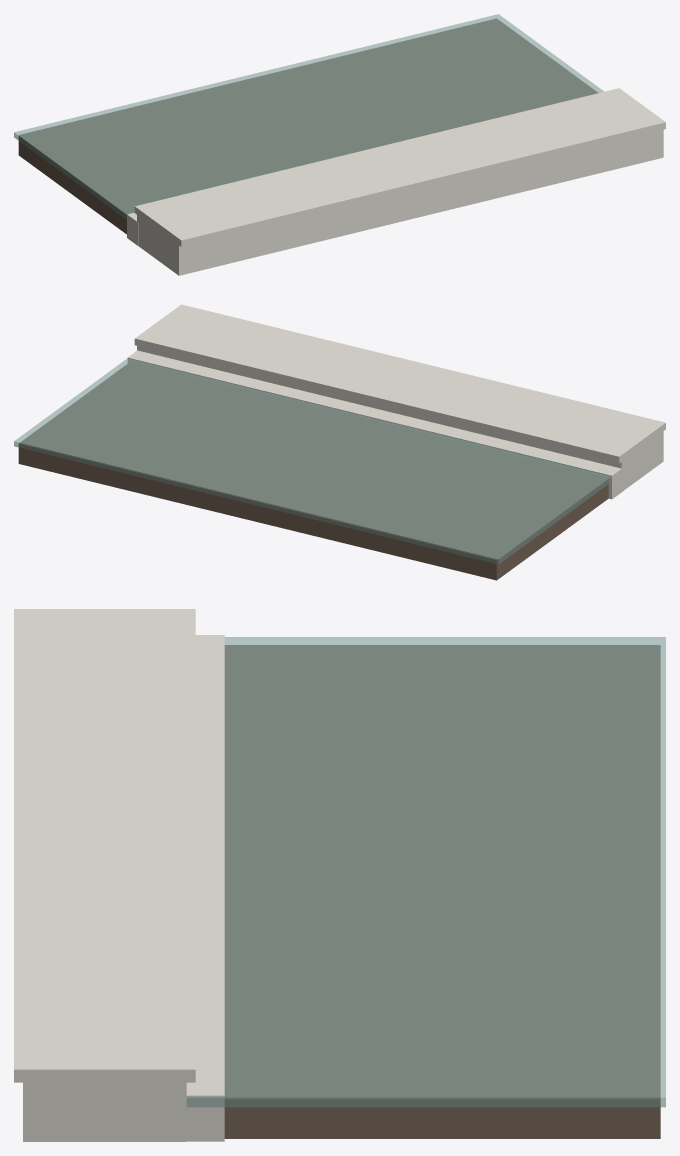
Rendered from botanical-glasshouse-and-palm-house-botanical-glasshou-1b23c26b__38557.glb.
3 views of the same model, one above another, from view 1: azimuth 30°, elevation 25°; view 2: azimuth 150°, elevation 25°; view 3: azimuth 270°, elevation 25° (orthographic). The views are drawn at different scales.
Parts seen in each view (by area): view 1: botanical-glasshouse-and-palm-house-lily-pond-coping-run; view 2: botanical-glasshouse-and-palm-house-lily-pond-coping-run; view 3: botanical-glasshouse-and-palm-house-lily-pond-coping-run.
Boxes of the visible parts, bbox=[...] form: botanical-glasshouse-and-palm-house-lily-pond-coping-run: bbox=[14, 14, 665, 275]; botanical-glasshouse-and-palm-house-lily-pond-coping-run: bbox=[14, 304, 665, 580]; botanical-glasshouse-and-palm-house-lily-pond-coping-run: bbox=[14, 609, 665, 1141].
Bounding box in the file's own units: 3 × 0.2199 × 1.79.
